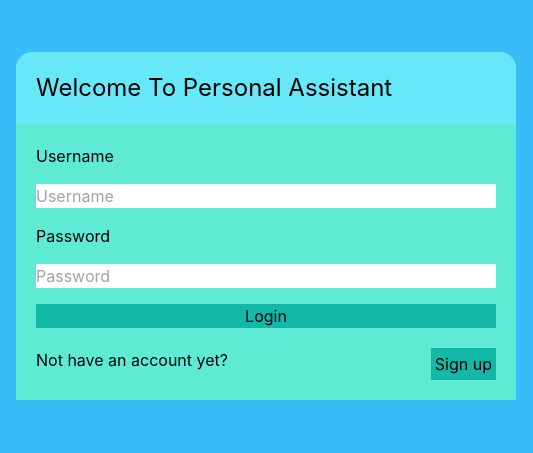
Navigate to Sign up page when clicked on sign up
Click the link "Sign up": (463, 364) [431,348,496,380]
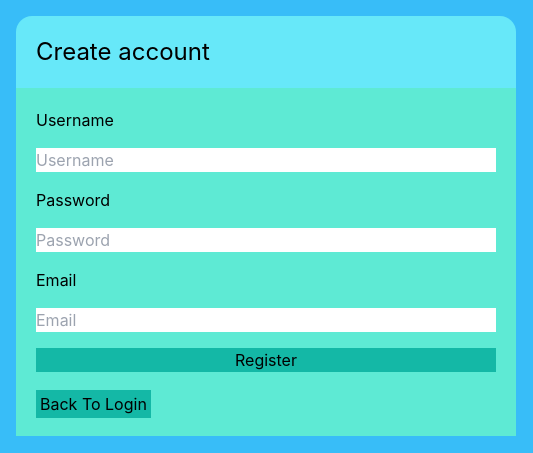
Check: the button "Register" is shown, box [36,348,496,372]
